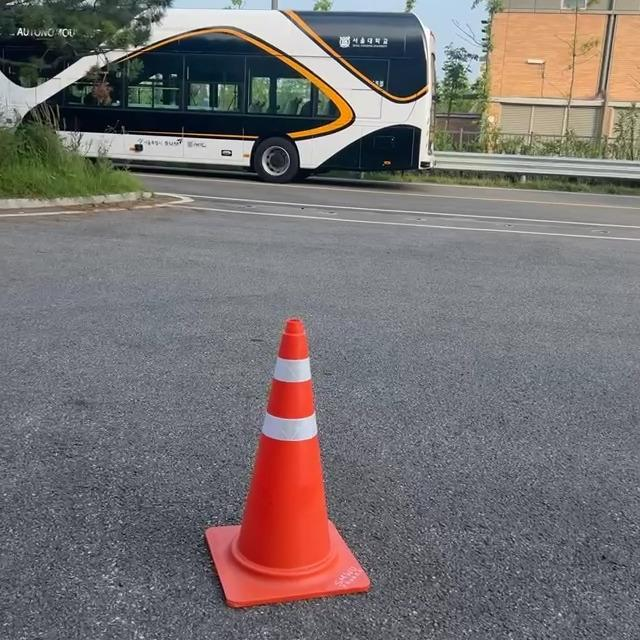fallen_object: (171, 264, 429, 640)
